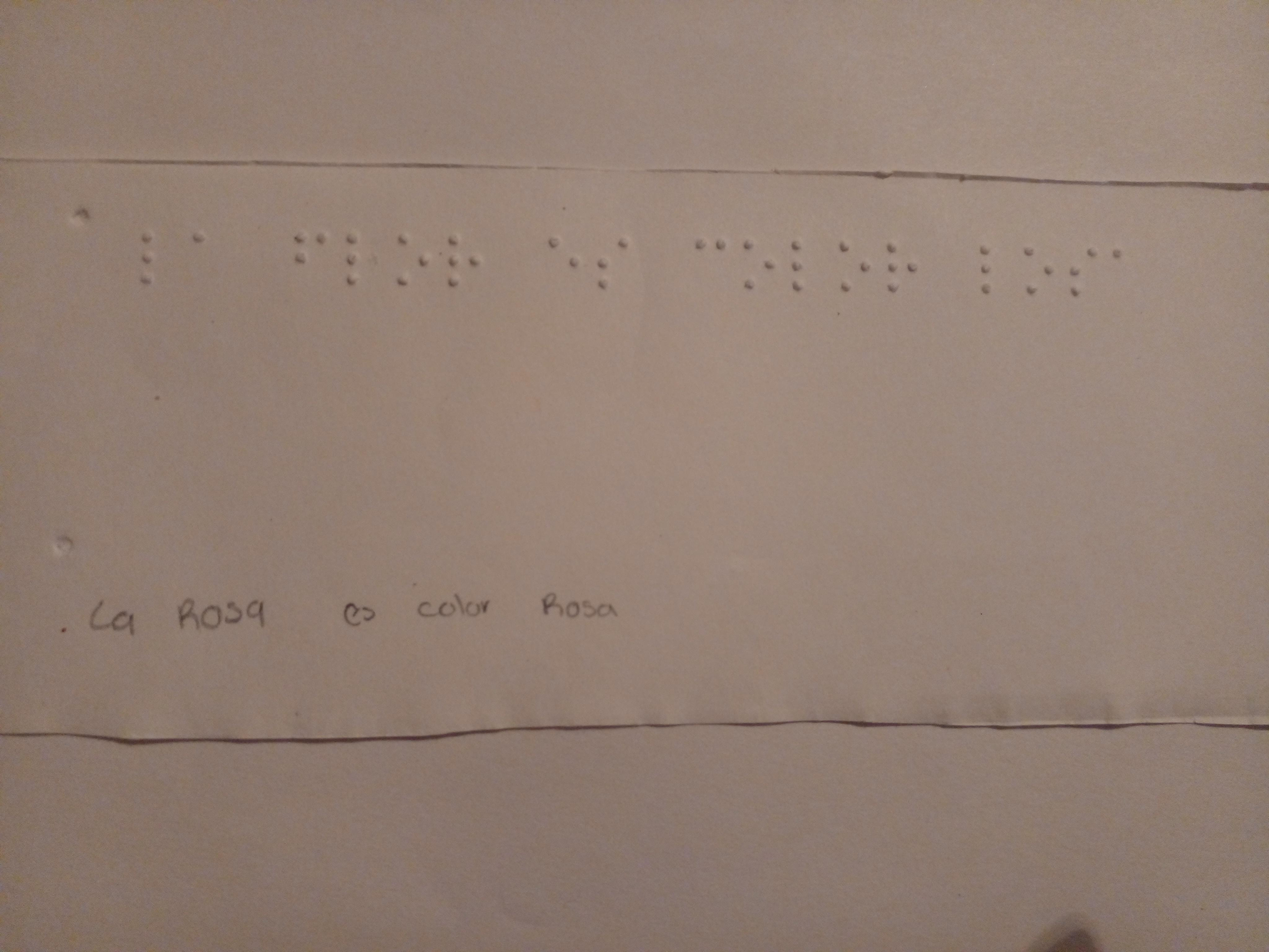a: (1094, 226, 1143, 308), (187, 223, 217, 271)
c: (692, 226, 733, 284)
e: (544, 228, 581, 294)
f: (279, 217, 332, 284)
l: (335, 229, 387, 307), (779, 232, 816, 305), (968, 245, 1005, 305), (130, 232, 170, 287)
o: (383, 220, 435, 299), (833, 231, 872, 307), (740, 229, 779, 301), (1018, 237, 1053, 310)
r: (437, 228, 494, 310), (878, 232, 920, 302)
s: (586, 234, 643, 305), (1055, 237, 1098, 310)
